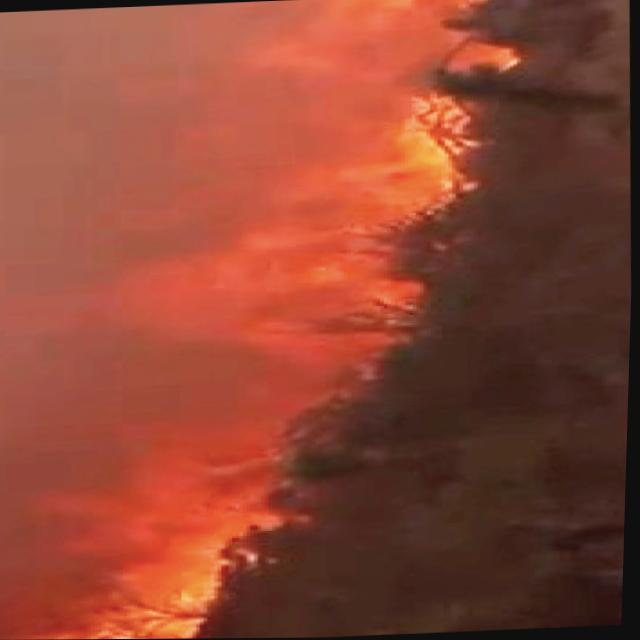fire: (118, 0, 572, 384), (72, 414, 270, 635)
smoke: (0, 9, 96, 477)
